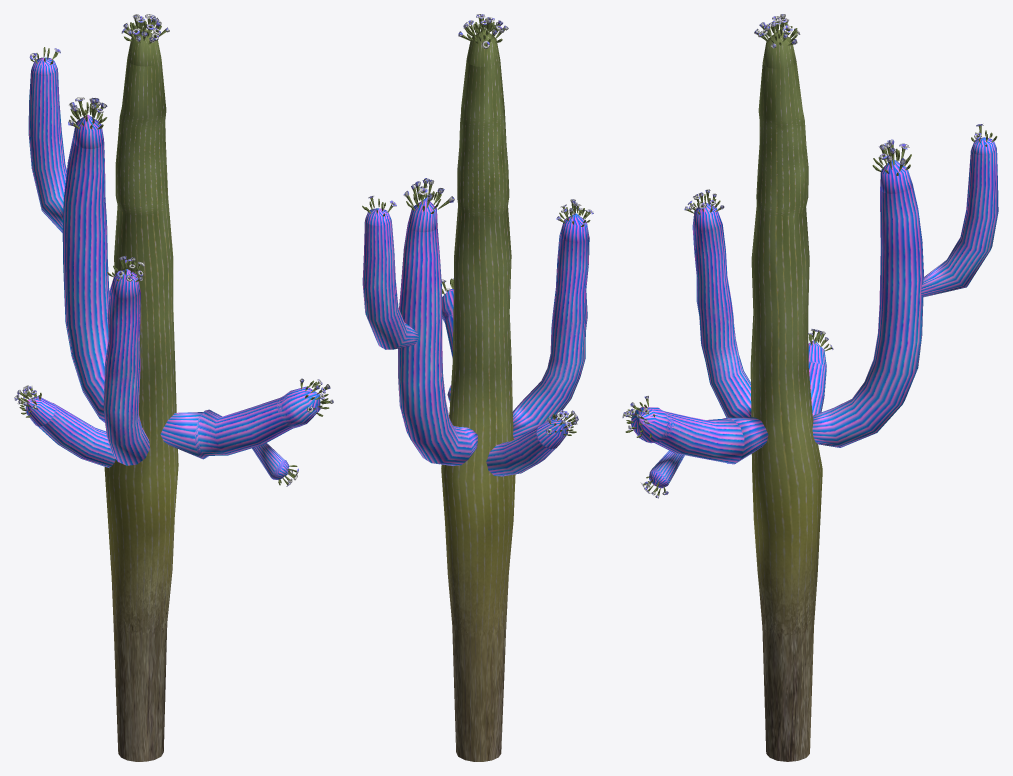
The model's file is cacti3v3.obj.
The picture shows the model from 3 angles, left to right: view 1: azimuth 30°, elevation 25°; view 2: azimuth 150°, elevation 25°; view 3: azimuth 270°, elevation 25°; orthographic projection.
Parts seen in each view (by area): view 1: cacti3v3; view 2: cacti3v3; view 3: cacti3v3.
Boxes of the visible parts, x1,y1,x2,y2 form: cacti3v3: (14,14,333,761); cacti3v3: (362,14,593,761); cacti3v3: (622,14,998,761).
Size of the model in its own units: 1.89 by 5.83 by 2.71.
